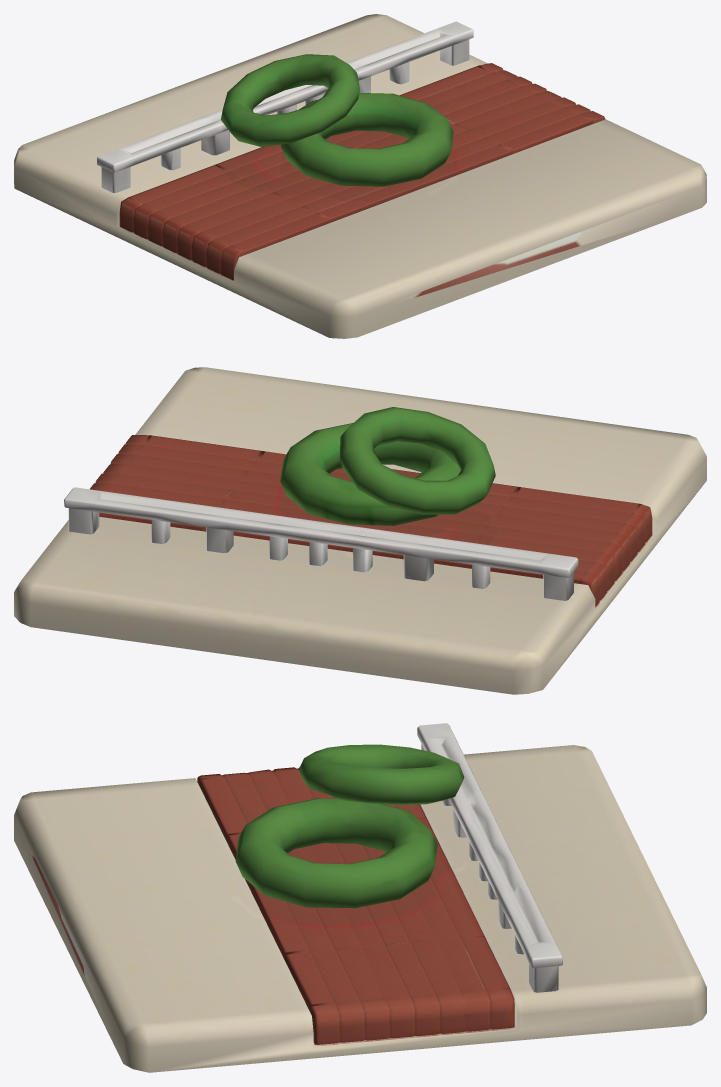
3 views of the same model, one above another, from view 1: azimuth 30°, elevation 25°; view 2: azimuth 150°, elevation 25°; view 3: azimuth 270°, elevation 25° (orthographic). The views are drawn at different scales.
Visible parts, largest first — view 1: tripo_node_ab301069-c697-4235-8315-409b69be03f3; view 2: tripo_node_ab301069-c697-4235-8315-409b69be03f3; view 3: tripo_node_ab301069-c697-4235-8315-409b69be03f3.
Boxes of the visible parts, x1,y1,x2,y2 form: tripo_node_ab301069-c697-4235-8315-409b69be03f3: (14,14,706,338); tripo_node_ab301069-c697-4235-8315-409b69be03f3: (14,367,706,694); tripo_node_ab301069-c697-4235-8315-409b69be03f3: (14,723,706,1072).
Bounding box in the file's own units: 1.16 × 0.2754 × 1.16.
Materials: 1 (1 with a texture image).
